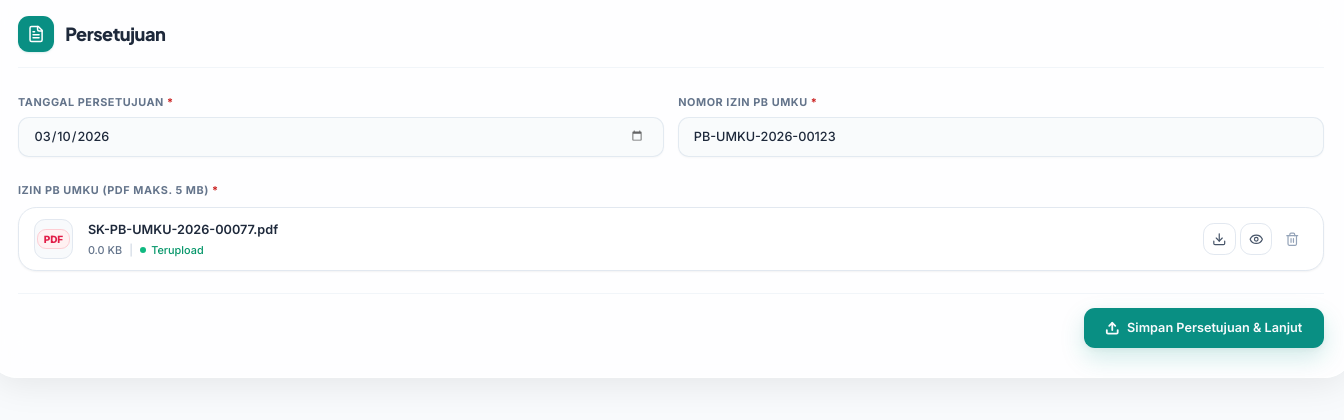
Test: session flow › shows approval form error when nomor izin PB UMKU is duplicated
Earlier steps of the test are not shown.
Click the button "Simpan Persetujuan & Lanjut": (1204,328) [1084,308,1324,348]
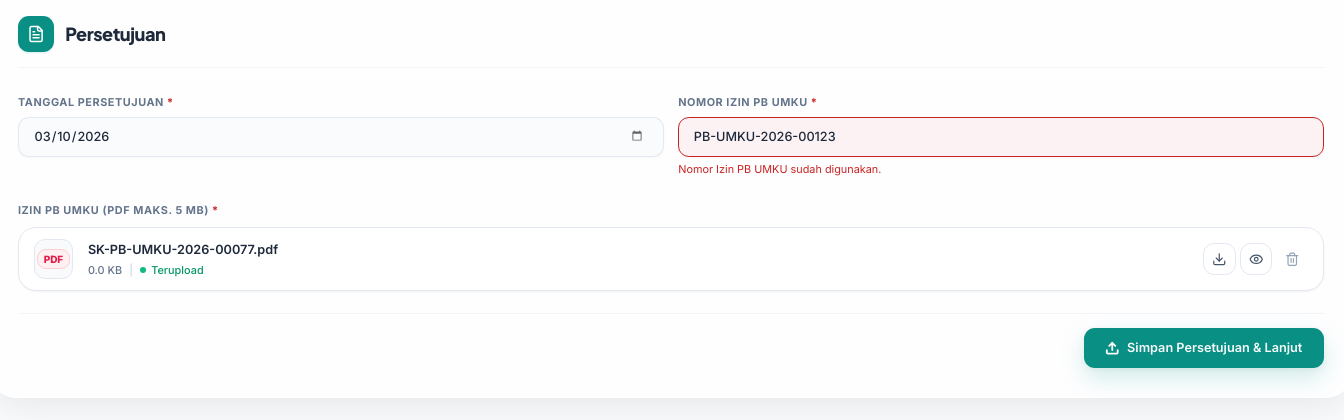
Now the text "Nomor Izin PB UMKU sudah digunakan." is shown, box [678,162,882,176]
